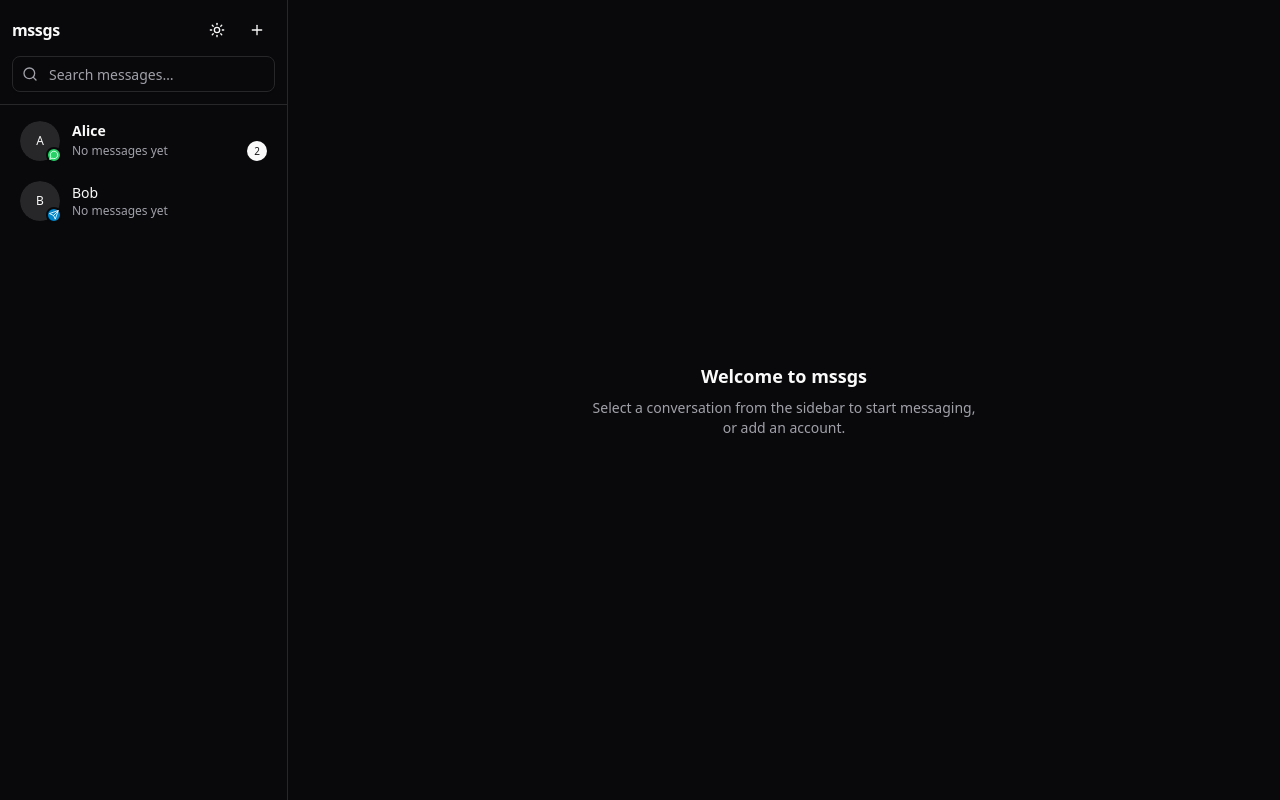
it: App › filters conversations by search query
In the field labelled "Search messages": (144, 74) [12,56,275,92], type "Alice"
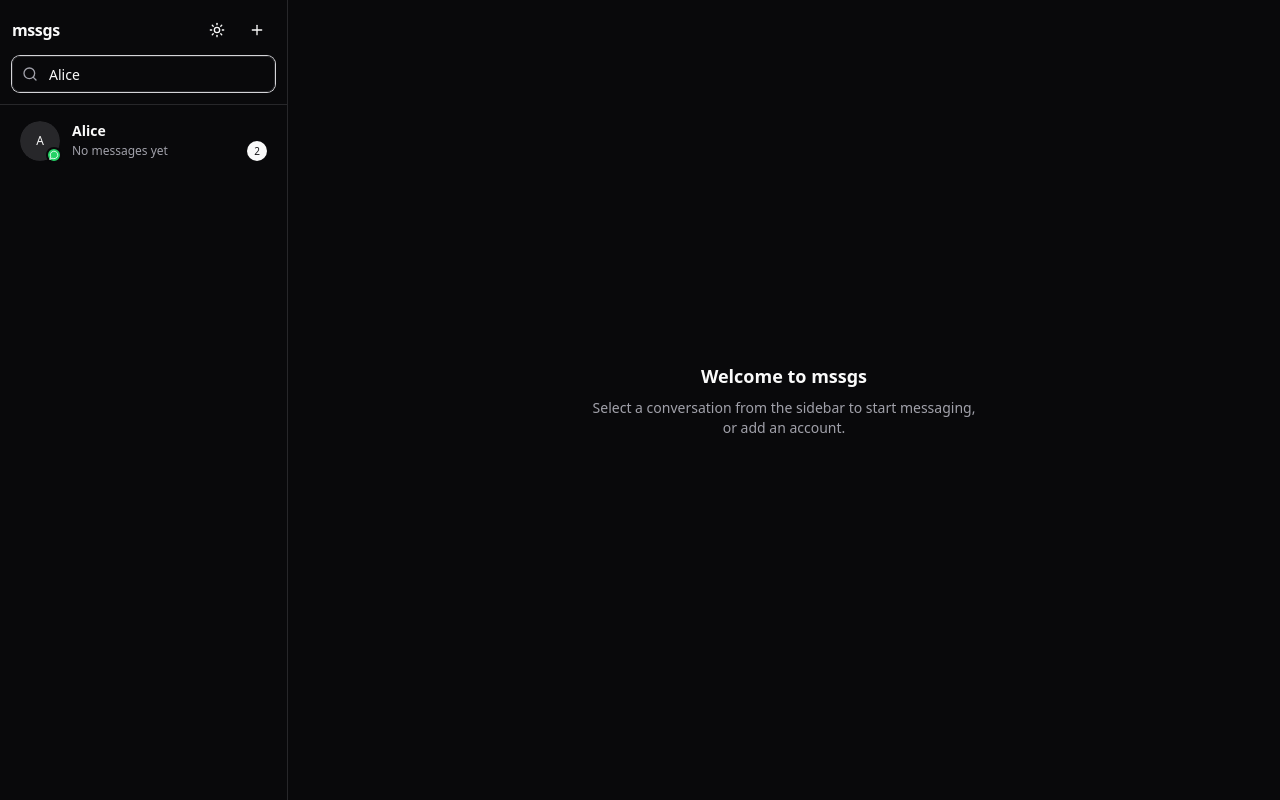
Expected: the text "Alice" is shown, [72,121,106,141]
Now the button "Bob" is gone
